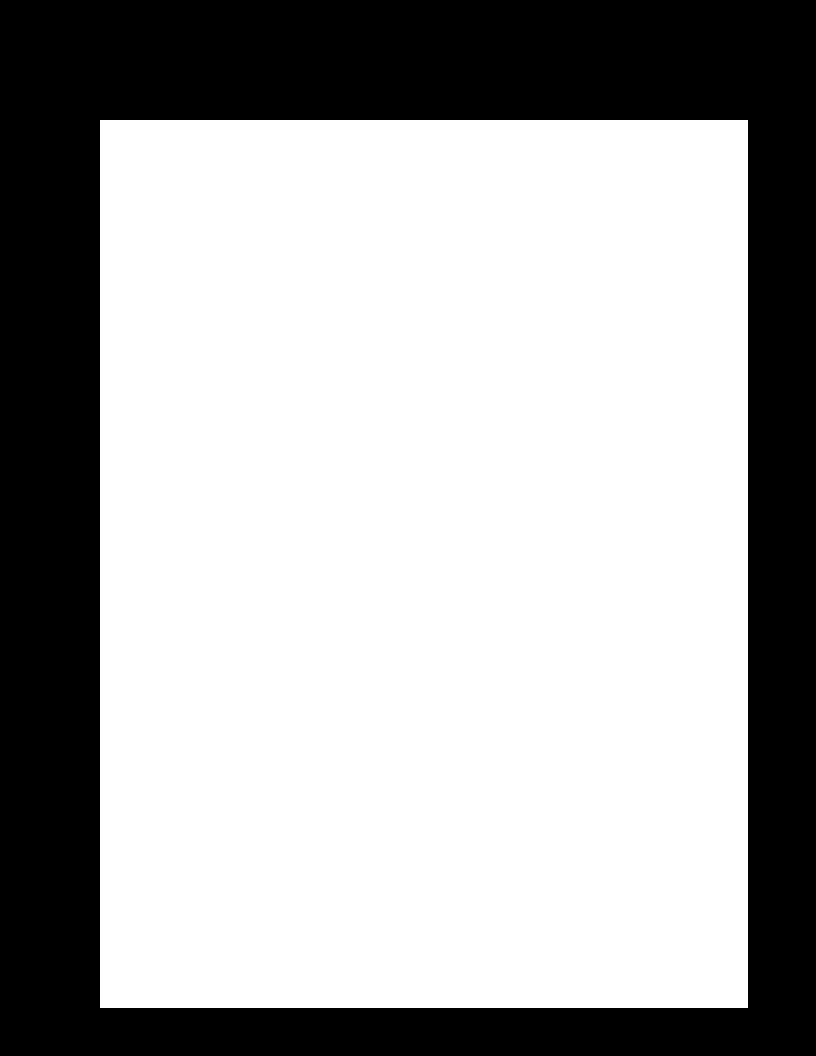table: (100, 120, 747, 1007)
